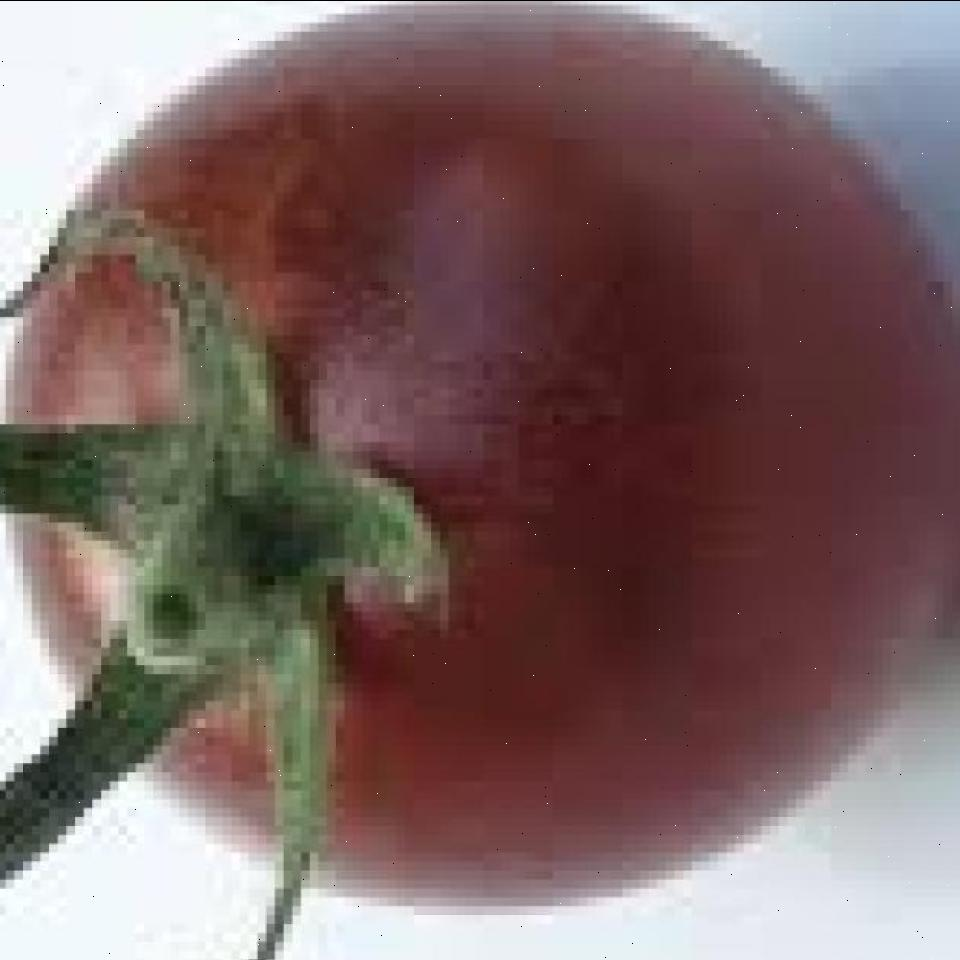Healthy: (27, 2, 960, 924)
